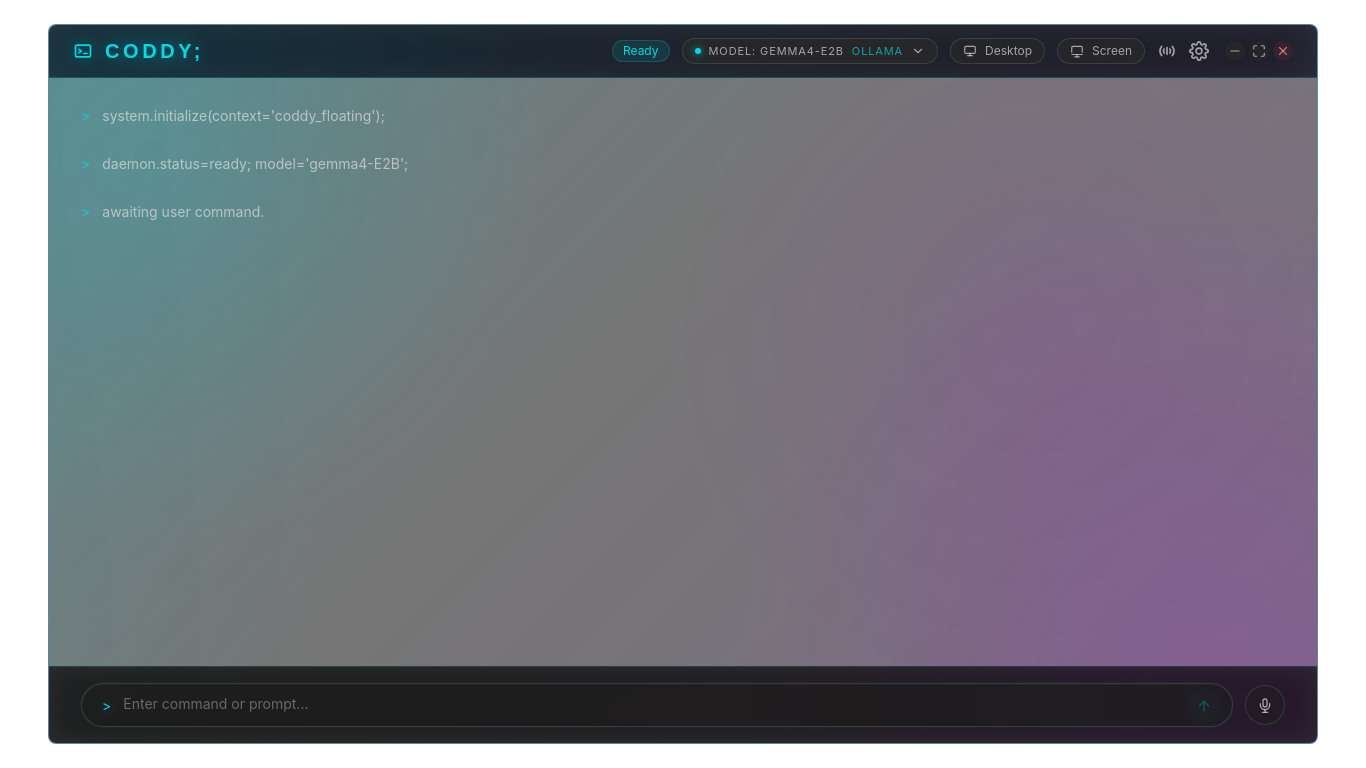
Test: FloatingTerminal › keeps the terminal visually expanded after maximize is clicked
Click the button named "Maximize" at (1259,51), box x1=1249 y1=41 x2=1269 y2=61
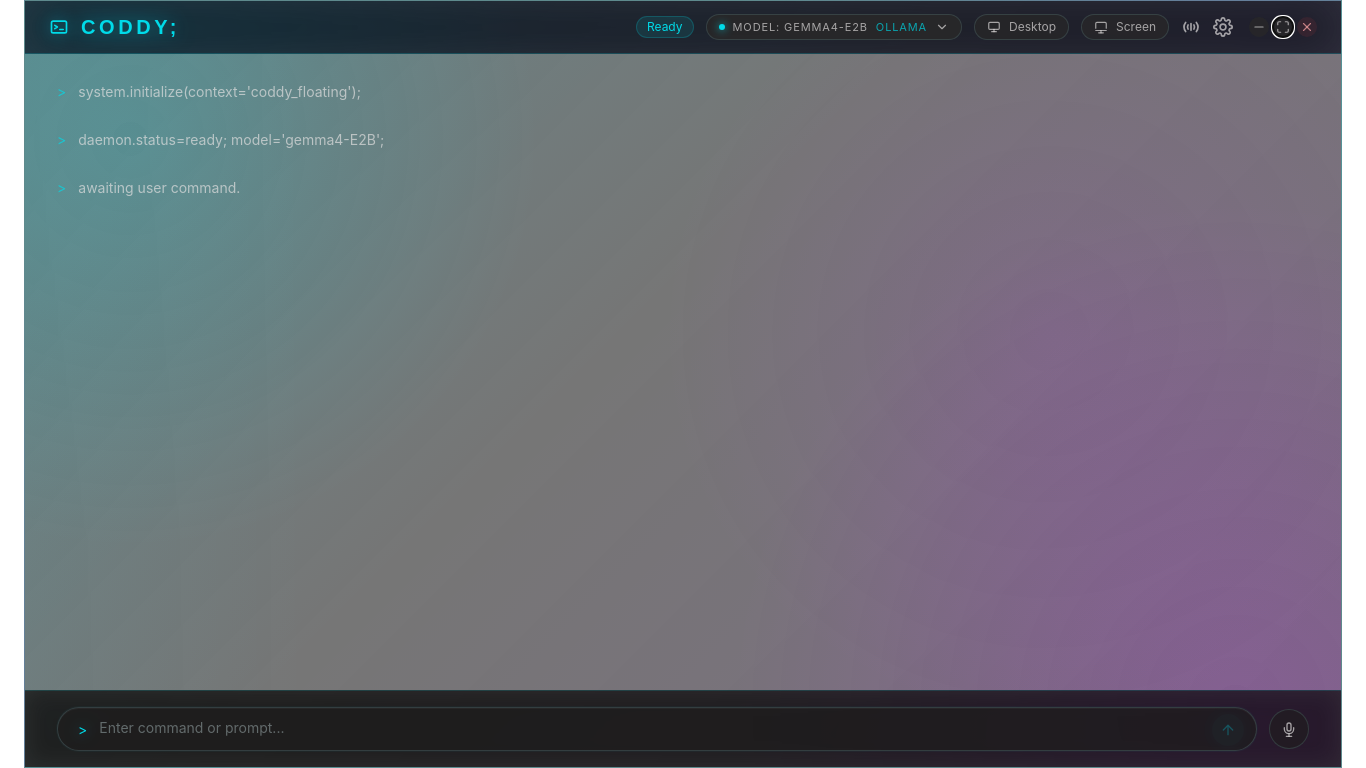
Now the button named "Restore floating terminal" is shown, box x1=1273 y1=17 x2=1293 y2=37
